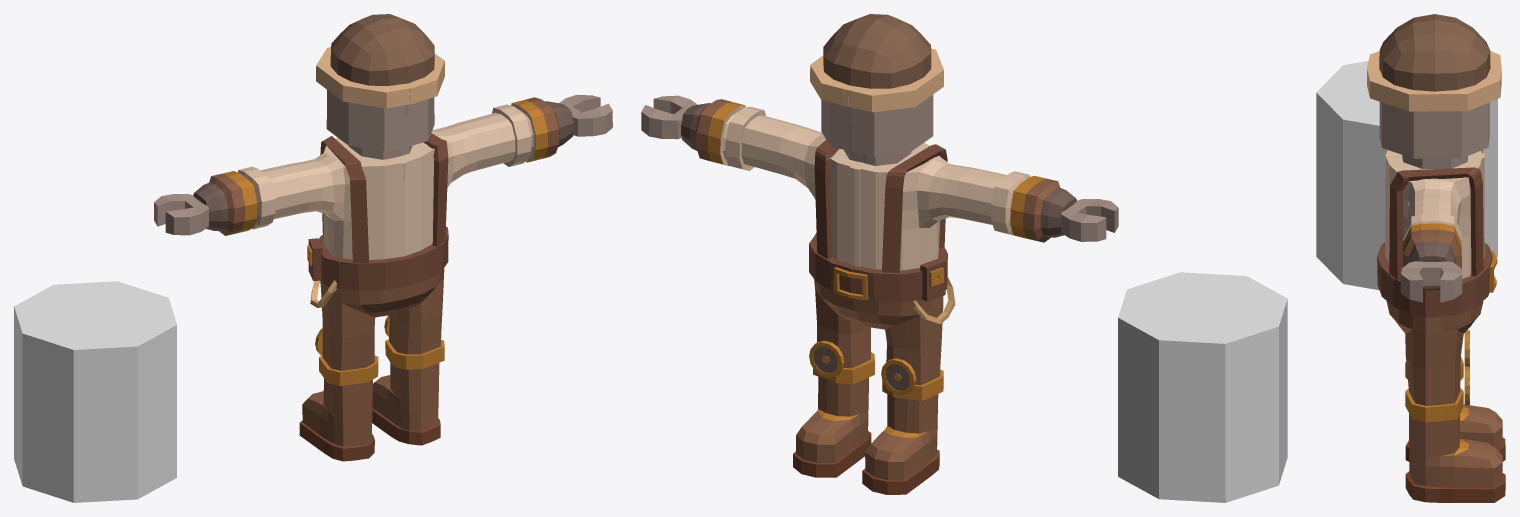
Rendered from EngineBotEST (1).fbx.
3 renders of one model, left to right at view 1: azimuth 30°, elevation 25°; view 2: azimuth 150°, elevation 25°; view 3: azimuth 270°, elevation 25°, orthographic. The views are drawn at different scales.
Visible parts, largest first — view 1: Cylinder.001, Cube.010, Cube, Cube.008, Cube.003, Cube.009, Cube.011, Cube.006, Cube.005; view 2: Cylinder.001, Cube.010, Cube, Cube.008, Cube.003, Cube.009, Cube.011, Cube.006, Cube.005, Cube.002, Cube.007, Cube.004; view 3: Cylinder.001, Cube, Cube.010, Cube.003, Cube.008, Cube.009, Cube.011, Cube.006, Cube.005, Cube.002, Cube.001.
Boxes of the visible parts, <box> form: Cylinder.001: <box>14,281,176,502</box>; Cube.010: <box>154,94,612,259</box>; Cube: <box>302,268,444,446</box>; Cube.008: <box>318,133,448,290</box>; Cube.003: <box>330,14,434,85</box>; Cube.009: <box>326,90,434,159</box>; Cube.011: <box>316,47,444,108</box>; Cube.006: <box>299,408,440,461</box>; Cube.005: <box>319,339,444,385</box>; Cylinder.001: <box>1118,272,1287,502</box>; Cube.010: <box>641,95,1118,270</box>; Cube: <box>796,279,943,480</box>; Cube.008: <box>809,139,947,301</box>; Cube.003: <box>823,14,931,88</box>; Cube.009: <box>821,94,933,165</box>; Cube.011: <box>810,48,943,112</box>; Cube.006: <box>793,431,939,494</box>; Cube.005: <box>813,352,943,401</box>; Cube.002: <box>809,340,916,395</box>; Cube.007: <box>813,346,909,390</box>; Cube.004: <box>920,258,945,301</box>; Cylinder.001: <box>1316,61,1497,290</box>; Cube: <box>1386,301,1502,487</box>; Cube.010: <box>1385,150,1484,302</box>; Cube.003: <box>1379,14,1490,91</box>; Cube.008: <box>1377,150,1492,317</box>; Cube.009: <box>1379,102,1489,168</box>; Cube.011: <box>1367,51,1501,111</box>; Cube.006: <box>1405,437,1505,502</box>; Cube.005: <box>1405,357,1463,422</box>; Cube.002: <box>1464,330,1469,405</box>; Cube.001: <box>1489,251,1497,292</box>.
Size of the model in its own units: 813 by 554 by 208.
